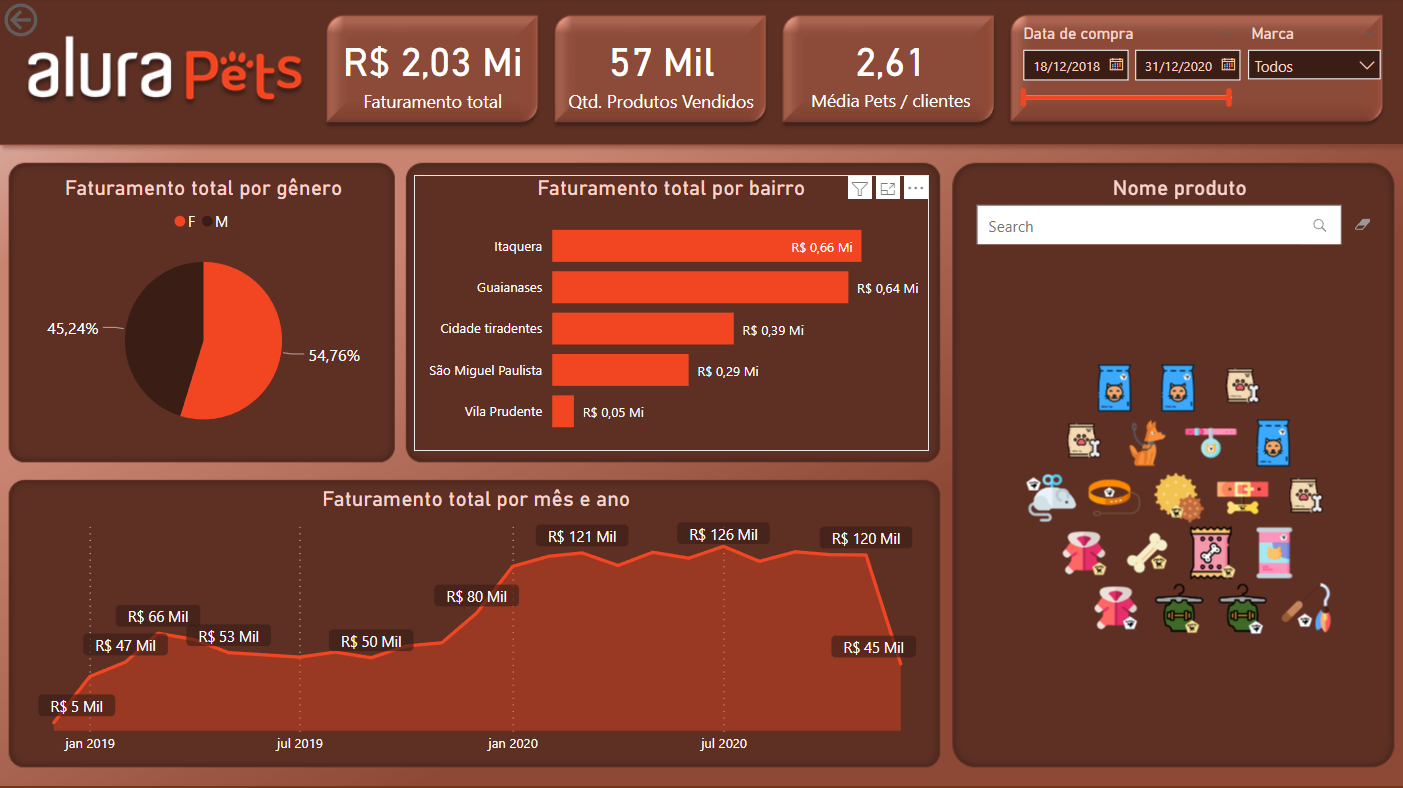

Layout of this report page (visuals, bound fields, positions):
{"tool":"powerbi","page":{"name":"Página 1","canvas":[1280,720],"ordinal":0},"visuals":[{"type":"card","fields":{"Values":["vendas.Faturamento total"]},"box":[295.3,15.4,199.6,99.8],"z":0},{"type":"card","fields":{"Values":["Avg(Clientes.Pets)"]},"box":[718.2,23.7,189.3,83.3],"z":1000},{"type":"card","fields":{"Values":["Sum(vendas.Quantidade)"]},"box":[505.2,8.2,196.5,115.2],"z":2000},{"type":"pieChart","title":"Faturamento total por gênero","fields":{"Category":["Clientes.Gênero"],"Y":["vendas.Faturamento total"]},"box":[21.6,161.5,329.3,251.1],"z":3000},{"type":"clusteredBarChart","title":"Faturamento total por bairro","fields":{"Category":["Clientes.Bairro"],"Y":["vendas.Faturamento total"]},"box":[378.6,161.5,469.2,251.1],"z":4000},{"type":"areaChart","title":"Faturamento total por mês e ano","fields":{"Category":["vendas.Data de compra.Variation.Hierarquia de datas.Ano","vendas.Data de compra.Variation.Hierarquia de datas.Trimestre","vendas.Data de compra.Variation.Hierarquia de datas.Mês","vendas.Data de compra.Variation.Hierarquia de datas.Dia"],"Y":["vendas.Faturamento total"]},"box":[21.6,444.5,826.2,253.1],"z":5000},{"type":"ImageGrid_FC5183B9_926C_45E0_B5F7_0CE9EAF1DA9B","fields":{"ImageURLHQ":["Produtos.Url img"]},"box":[889,230.5,373.5,449.6],"z":6000},{"type":"textFilter25A4896A83E0487089E2B90C9AE57C8A","fields":{"field":["Produtos.Nome produto"]},"box":[885.9,161.5,380.7,67.9],"z":7000},{"type":"slicer","fields":{"Values":["Produtos.Marca"]},"box":[1128.7,19.5,141,84.4],"z":8000},{"type":"slicer","fields":{"Values":["vendas.Data de compra"]},"box":[920.9,19.5,216.1,103.9],"z":9000},{"type":"actionButton","box":[0,0,100,40],"z":10000}]}

Visuals, with their boxes in screenshot pixels (x1, y1, x2, y2), scaled from the page's 1280x720 canvas onto the 1403x788 screenshot:
card - vendas.Faturamento total: 324:17:542:126
card - Avg(Clientes.Pets): 787:26:995:117
card - Sum(vendas.Quantidade): 554:9:769:135
"Faturamento total por gênero" pieChart: 24:177:385:452
"Faturamento total por bairro" clusteredBarChart: 415:177:929:452
"Faturamento total por mês e ano" areaChart: 24:486:929:763
ImageGrid_FC5183B9_926C_45E0_B5F7_0CE9EAF1DA9B - Produtos.Url img: 974:252:1384:744
textFilter25A4896A83E0487089E2B90C9AE57C8A - Produtos.Nome produto: 971:177:1388:251
slicer - Produtos.Marca: 1237:21:1392:114
slicer - vendas.Data de compra: 1009:21:1246:135
actionButton: 0:0:110:44
